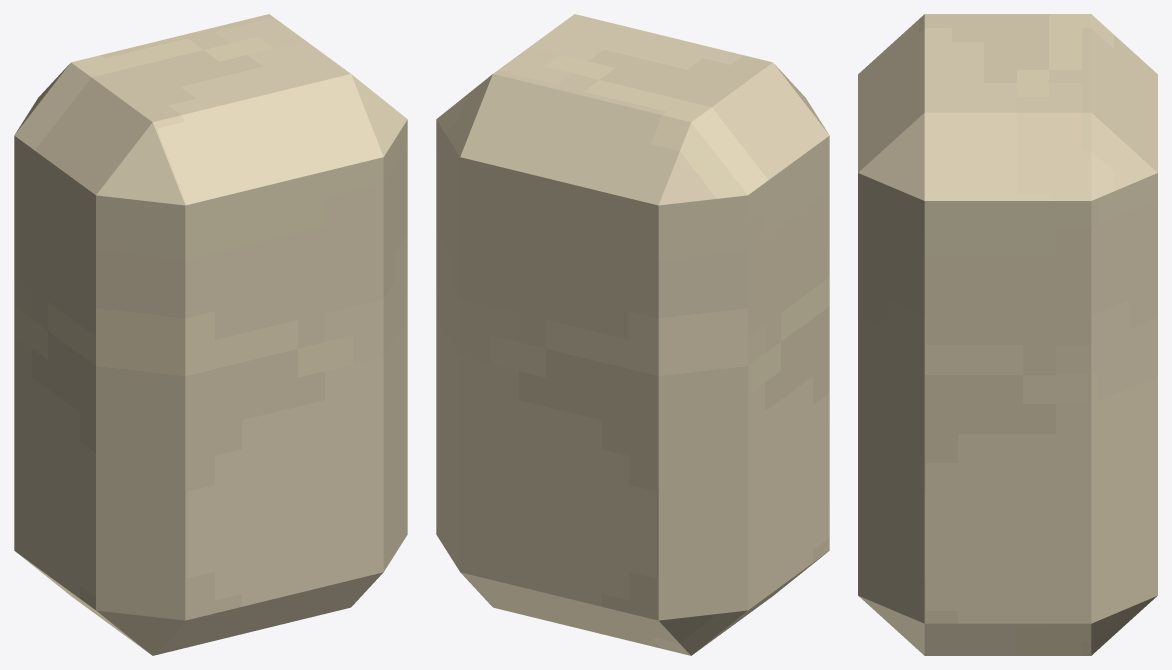
Rendered from gk_toggle.glb.
3 views of the same model, side by side, from view 1: azimuth 30°, elevation 25°; view 2: azimuth 150°, elevation 25°; view 3: azimuth 270°, elevation 25° (orthographic).
Parts seen in each view (by area): view 1: p; view 2: p; view 3: p.
Part boxes in pixels (x1,y1,x2,y2): p: [14, 14, 407, 655]; p: [436, 14, 829, 655]; p: [858, 14, 1157, 655].
Size of the model in its own units: 0.022 by 0.036 by 0.018.
1 material, 1 textured.
